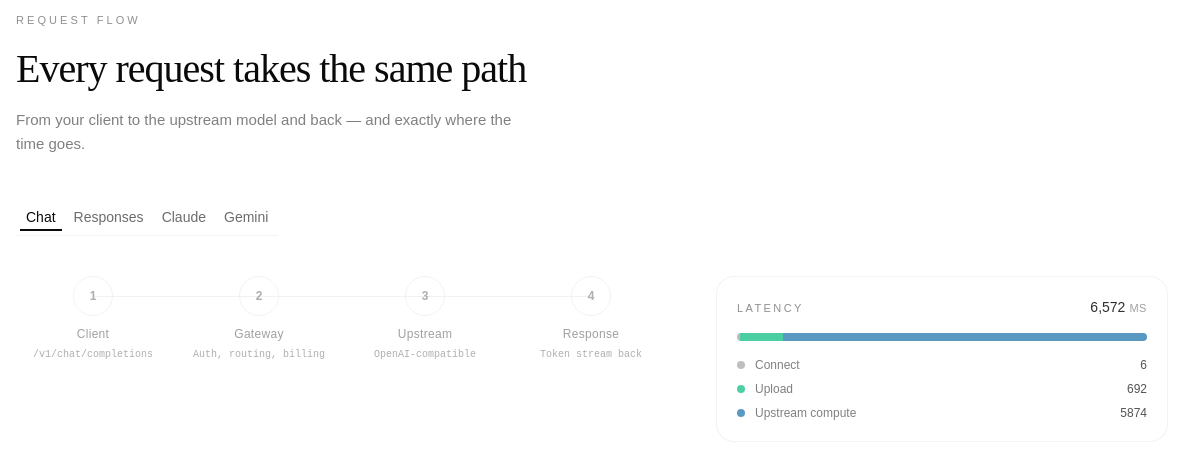
Scenario: RequestFlow › switches the upstream target when another endpoint tab is selected
The image size is (1185, 459).
Check: the text "Anthropic" is not shown
Click the tab "Claude": (184, 217) [155,208,213,227]
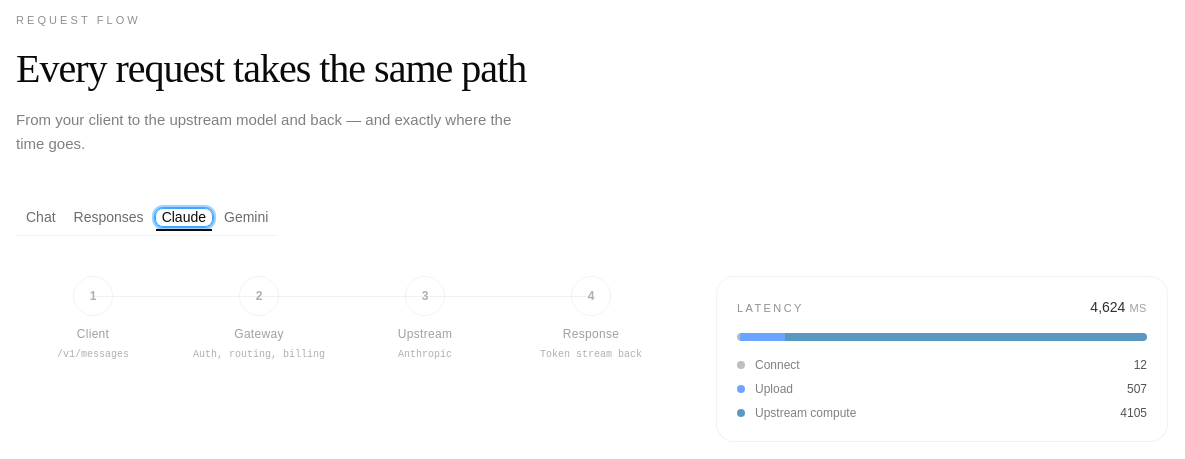
Check: the text "Anthropic" is shown, box [398,348,452,362]
